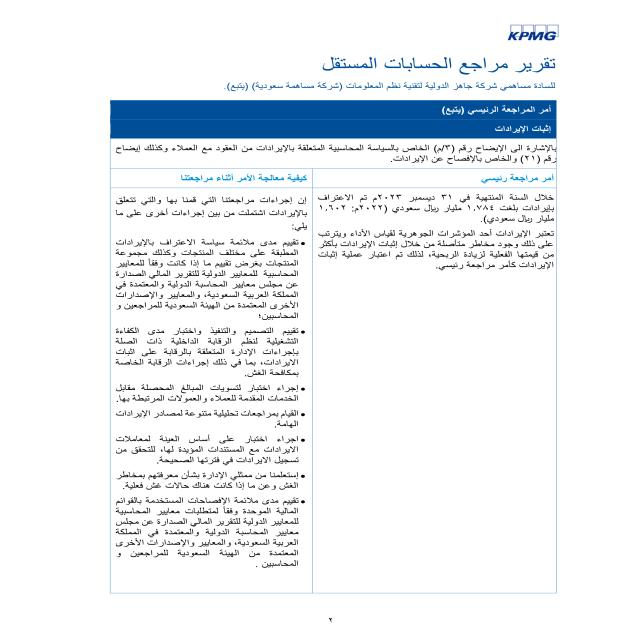auditor_report: (316, 54, 568, 78), (423, 96, 562, 118), (482, 172, 560, 186)
